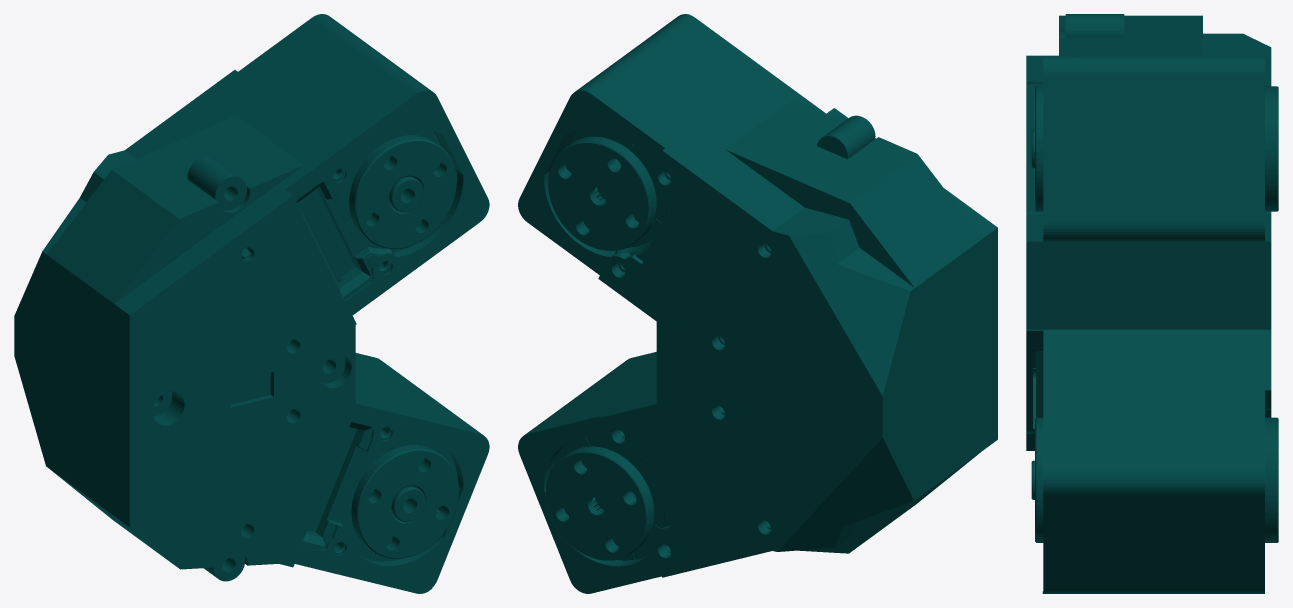
Rendered from visuals_01.obj.
3 views of the same model, side by side, from view 1: azimuth 30°, elevation 25°; view 2: azimuth 150°, elevation 25°; view 3: azimuth 270°, elevation 25° (orthographic). The views are drawn at different scales.
Size of the model in its own units: 0.0691 by 0.0902 by 0.0386.
